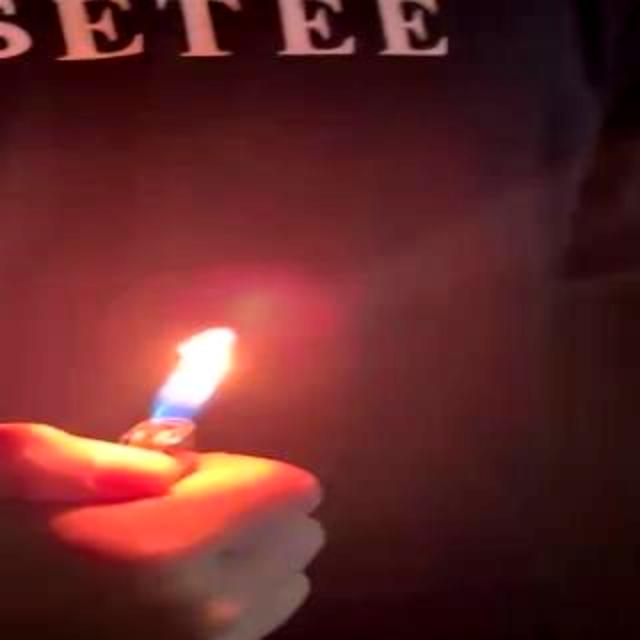fire: (120, 328, 235, 450)
